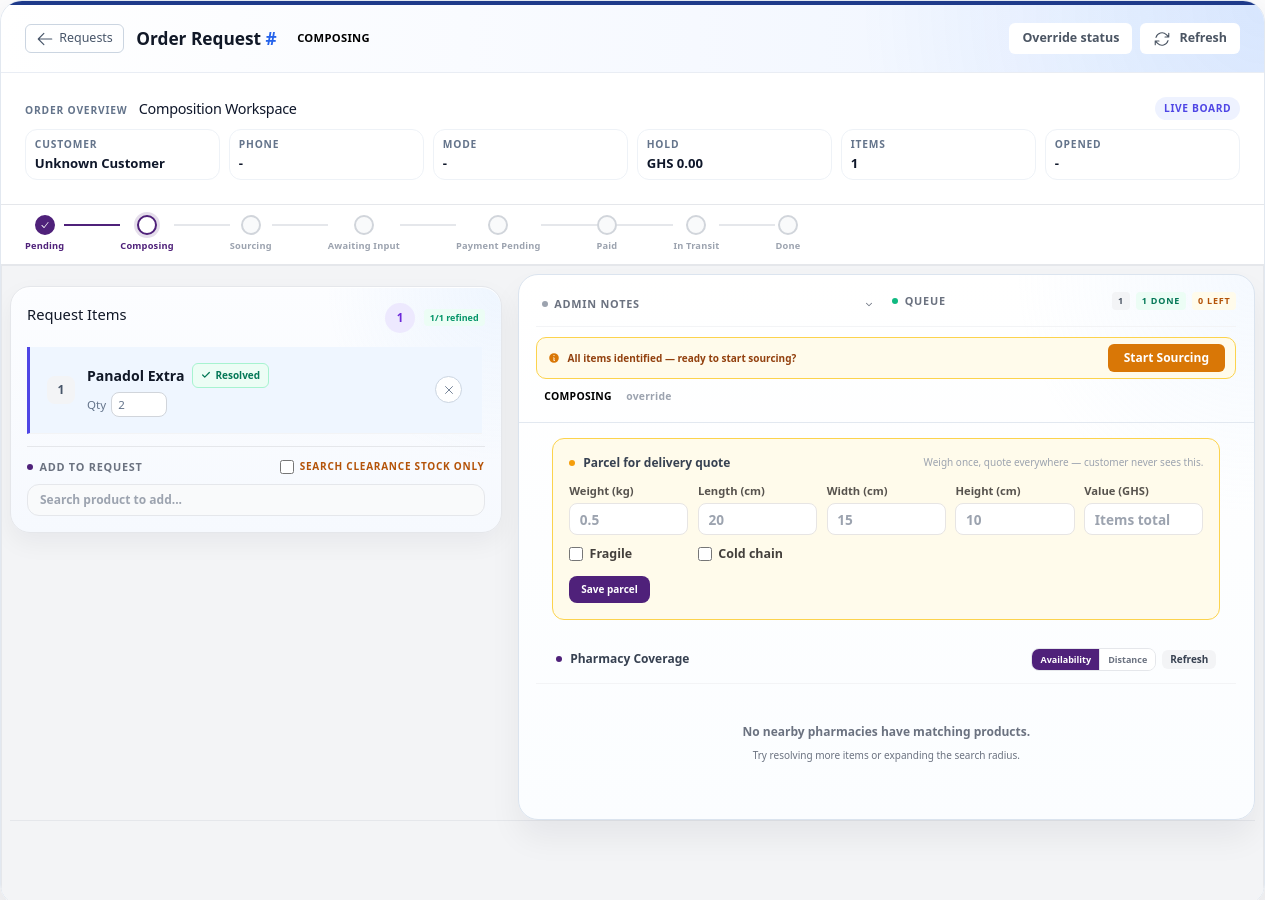
it: compose: deleting an item › says why when the server refuses, and keeps the item
Click the button named "Delete request item" at (449,390), box [435,376,462,403]
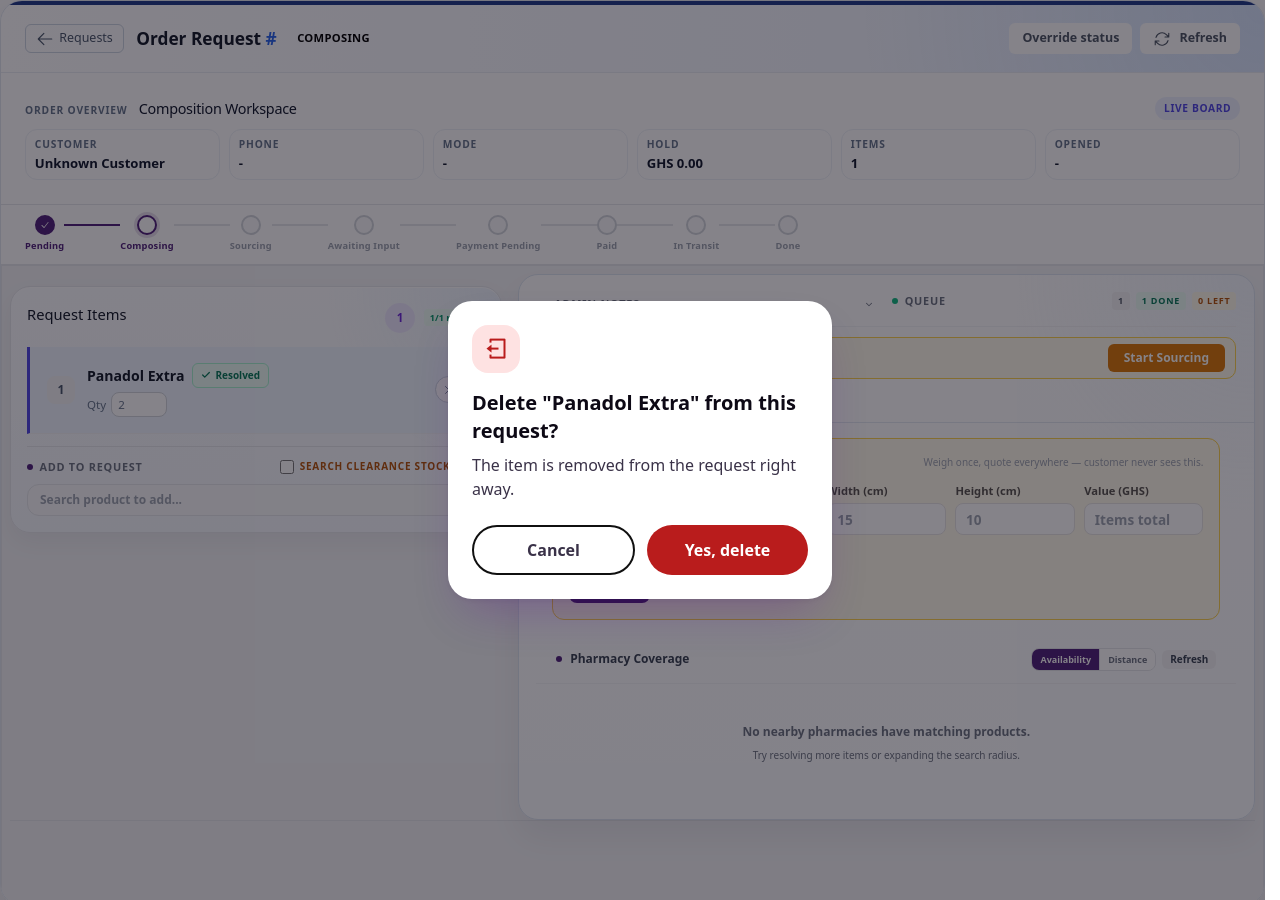
Click the button "Yes, delete" at (728,550), box [647,525,808,575]
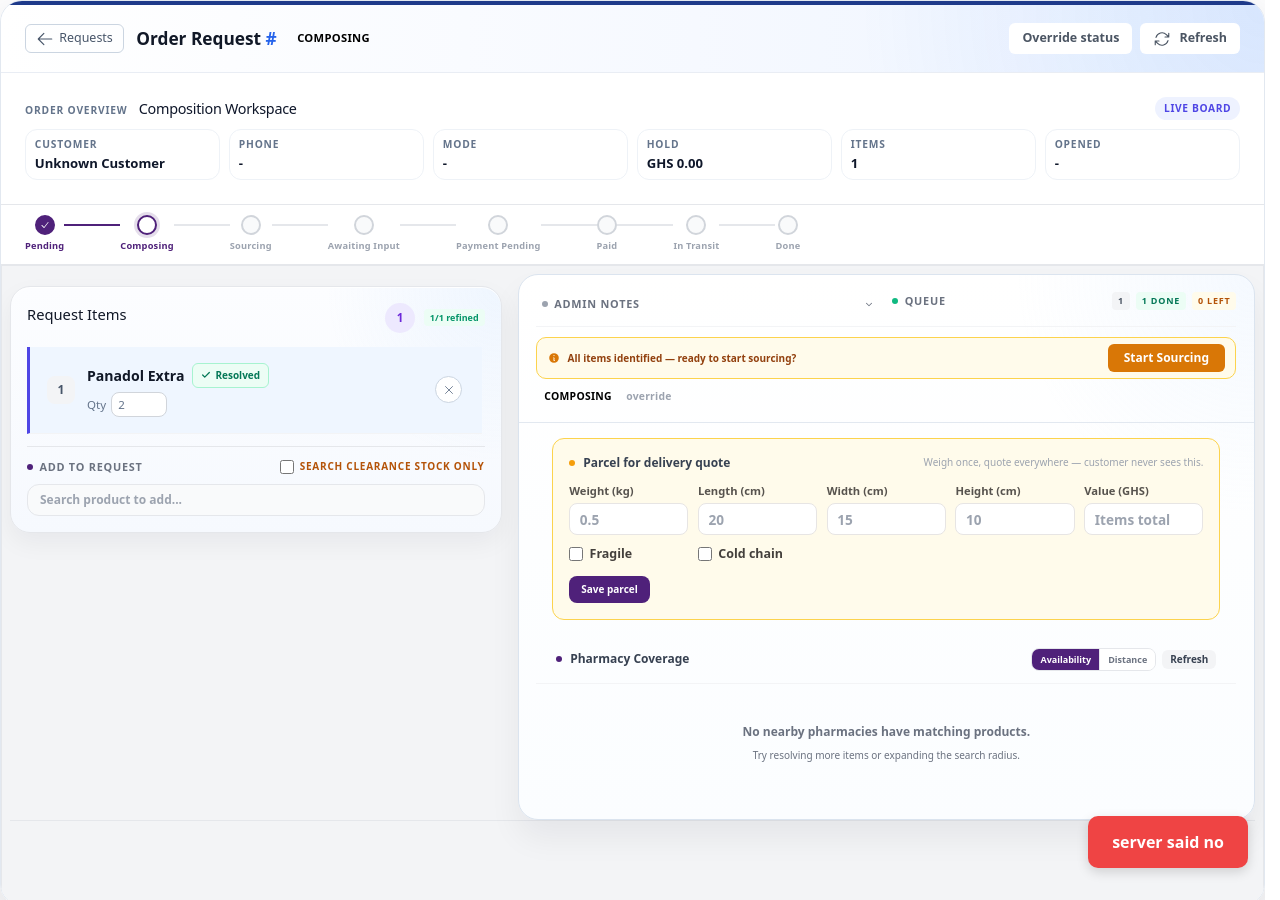
Expected: the button named "Delete request item" is shown, [435,376,462,403]
Now the text "server said no" is shown, box [1088,816,1248,868]
